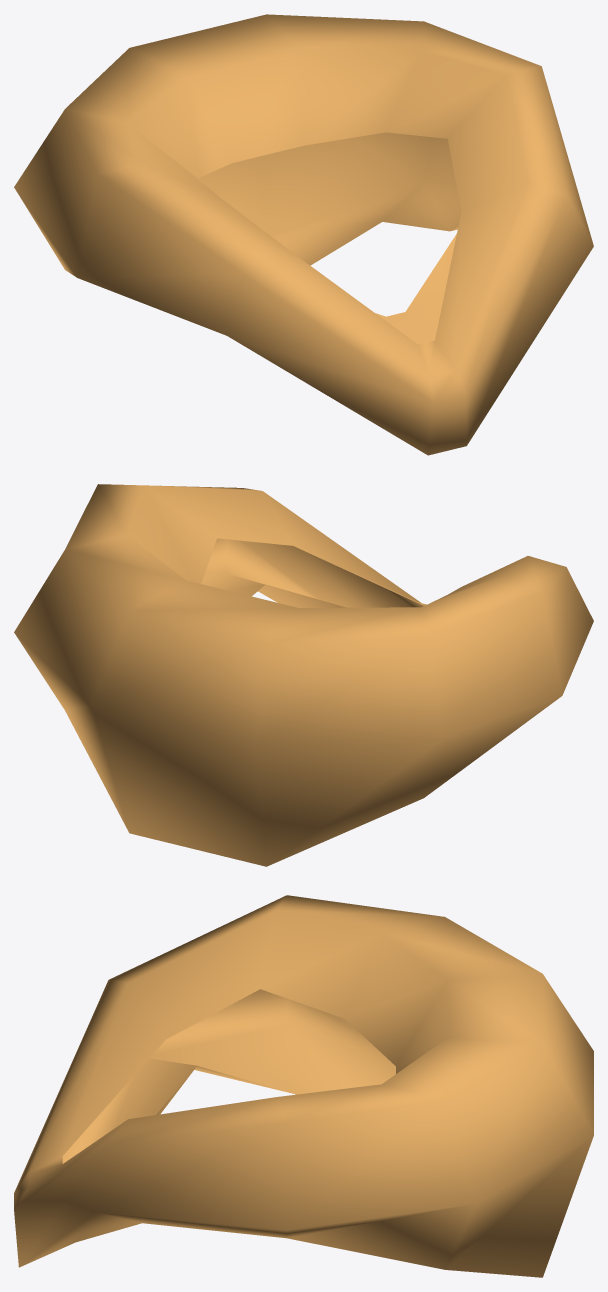
The model's file is itemBelt.fbx.
3 renders of one model, top to bottom at view 1: azimuth 30°, elevation 25°; view 2: azimuth 150°, elevation 25°; view 3: azimuth 270°, elevation 25°, orthographic. The views are drawn at different scales.
Parts seen in each view (by area): view 1: itemHood; view 2: itemHood; view 3: itemHood.
Boxes of the visible parts, x1,y1,x2,y2 form: itemHood: (14,14,593,455); itemHood: (14,484,593,866); itemHood: (14,895,593,1277).
Bounding box in the file's own units: 34.79 × 16.57 × 34.3.
